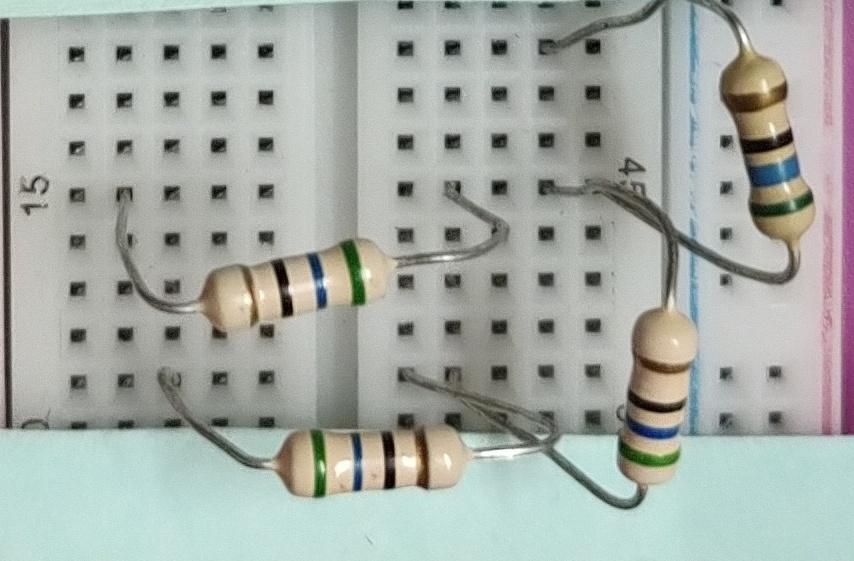resistor: (707, 38, 821, 249), (186, 235, 398, 336), (264, 410, 477, 506), (611, 296, 707, 497)
